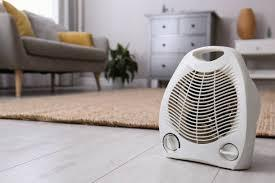Indoor Plant: (107, 43, 138, 86)
cabinet: (146, 11, 217, 87)
carpet: (0, 85, 275, 135)
curtain: (0, 1, 87, 90)
heater: (159, 45, 262, 171)
pillow: (6, 3, 37, 37), (58, 31, 94, 46)
sofa: (0, 7, 107, 94)
vase: (237, 8, 257, 39)
